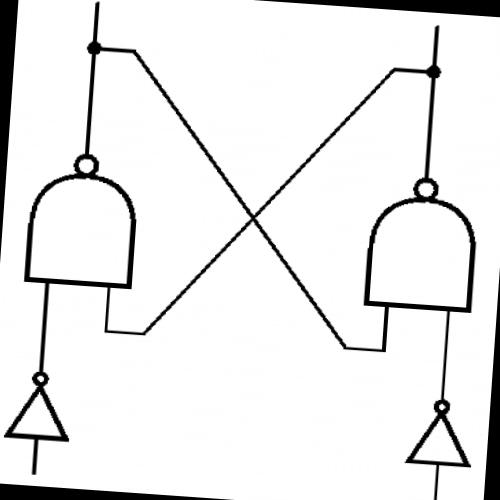nand: (9, 140, 154, 304), (350, 164, 489, 330)
not: (391, 366, 487, 490), (0, 354, 84, 464)
